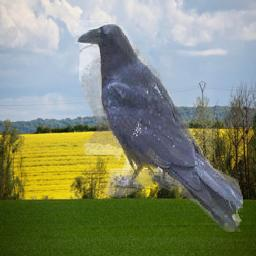Crow: (75, 20, 244, 232)
